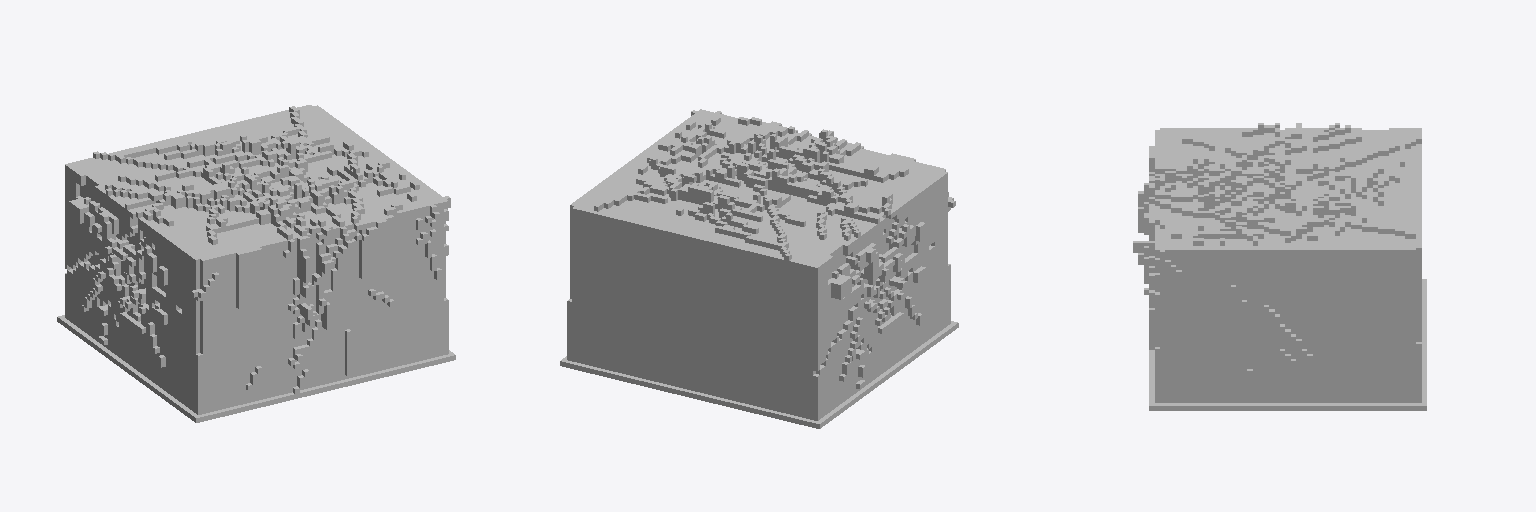
File: Slime.obj
The picture shows the model from 3 angles: view 1: azimuth 30°, elevation 25°; view 2: azimuth 150°, elevation 25°; view 3: azimuth 270°, elevation 25°; orthographic projection.
Parts seen in each view (by area): view 1: object 1; view 2: object 1; view 3: object 1.
Boxes of the visible parts, x1=… form: object 1: x1=57, y1=105, x2=455, y2=422; object 1: x1=560, y1=109, x2=958, y2=428; object 1: x1=1133, y1=123, x2=1426, y2=410.
Bounding box in the file's own units: 5.7 × 3.6 × 5.4.